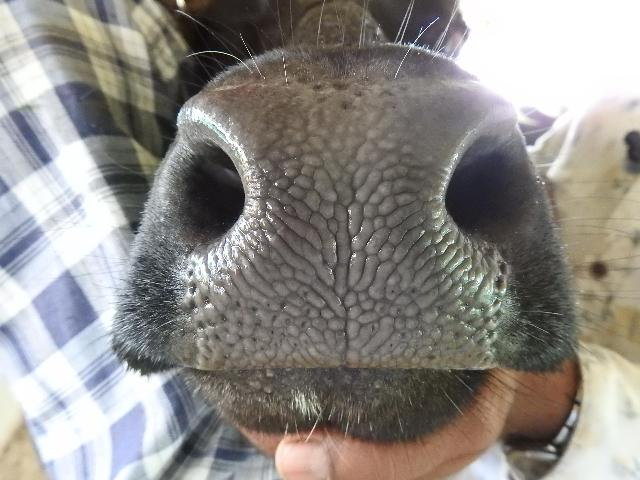Muzzle: (236, 122, 454, 362)
